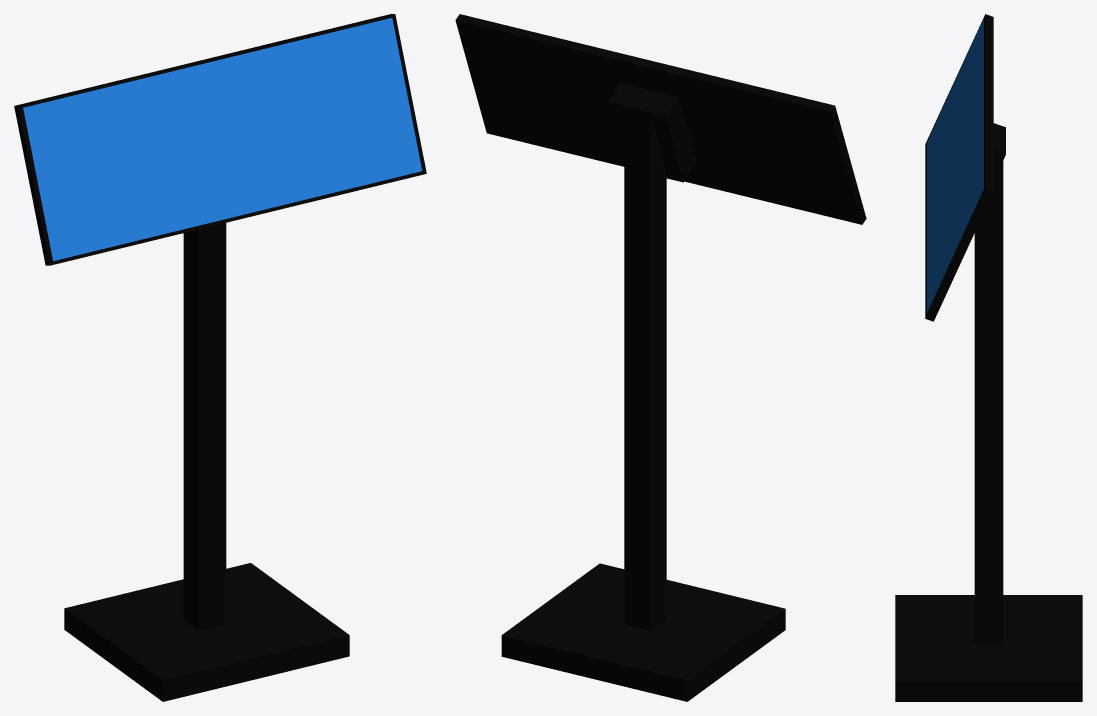
Rendered from terminal.glb.
3 renders of one model, left to right at view 1: azimuth 30°, elevation 25°; view 2: azimuth 150°, elevation 25°; view 3: azimuth 270°, elevation 25°, orthographic. The views are drawn at different scales.
Visible parts, largest first — view 1: terminal_display, terminal_frame; view 2: terminal_frame; view 3: terminal_frame, terminal_display.
Boxes of the visible parts, x1,y1,x2,y2 form: terminal_display: (23, 18, 422, 261); terminal_frame: (14, 14, 426, 701); terminal_frame: (455, 14, 866, 701); terminal_frame: (895, 14, 1082, 701); terminal_display: (926, 18, 983, 313).
Size of the model in its own units: 0.9358 by 1.39 by 0.424.
